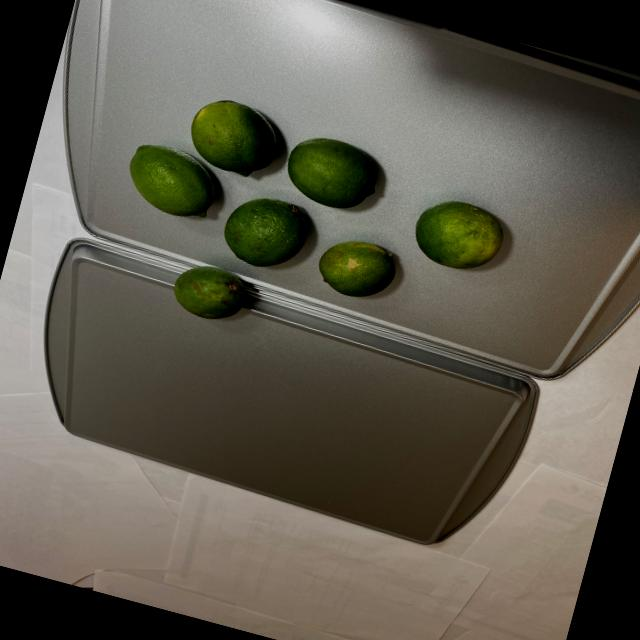lemon: (94, 80, 520, 388)
